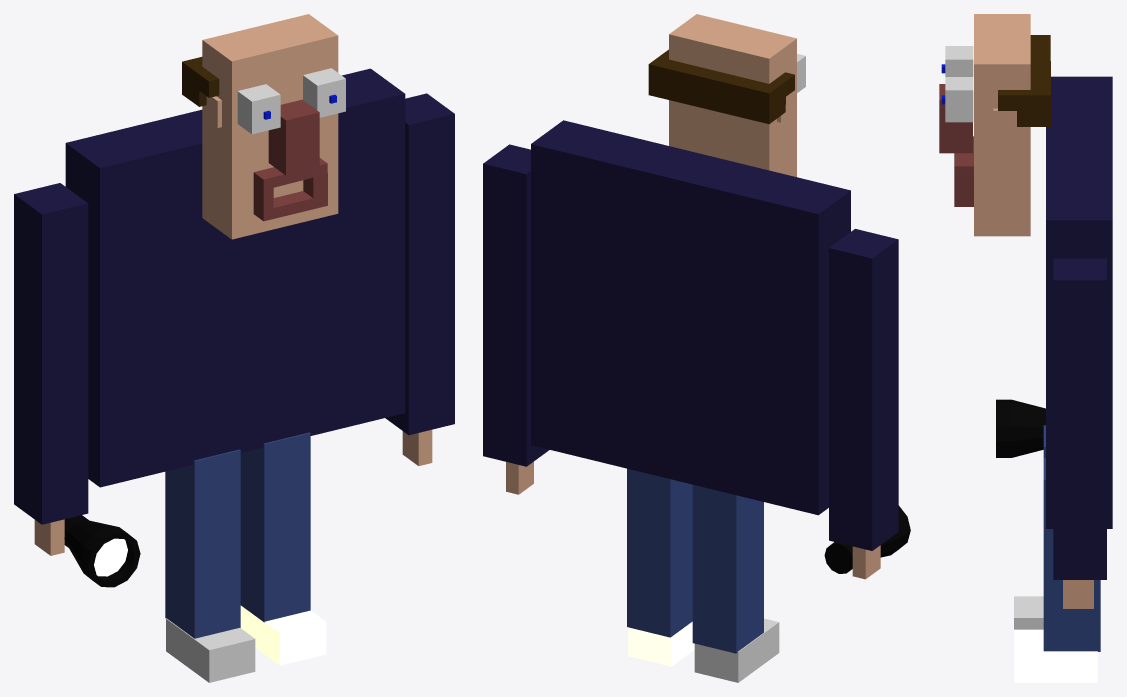
Rendered from Man.glb.
3 views of the same model, side by side, from view 1: azimuth 30°, elevation 25°; view 2: azimuth 150°, elevation 25°; view 3: azimuth 270°, elevation 25° (orthographic). The views are drawn at different scales.
Visible parts, largest first — view 1: Cube, Cube.001, Cube.005, Cube.002, Cube.004, Cube.003, Cylinder, Cube.010, Cube.009, Cube.006, Cube.016, Cube.008 (+4 smaller); view 2: Cube, Cube.001, Cube.002, Cube.005, Cube.004, Cube.003, Cube.013, Cube.010, Cube.009, Cylinder, Cube.012, Cube.011; view 3: Cube.002, Cube, Cube.005, Cube.003, Cube.009, Cube.013, Cylinder, Cube.007, Cube.006, Cube.016, Cube.010, Cube.008 (+2 smaller).
Part boxes in pixels (x1,y1,x2,y2): Cube: (65, 68, 405, 487); Cube.001: (14, 183, 88, 524); Cube.005: (202, 14, 338, 239); Cube.002: (385, 93, 454, 435); Cube.004: (165, 449, 240, 638); Cube.003: (240, 432, 310, 622); Cylinder: (64, 515, 140, 587); Cube.010: (166, 618, 255, 682); Cube.009: (240, 605, 326, 665); Cube.006: (268, 99, 319, 175); Cube.016: (253, 158, 327, 221); Cube.008: (237, 84, 280, 134); Cube: (531, 120, 850, 515); Cube.001: (829, 229, 898, 550); Cube.002: (483, 144, 549, 466); Cube.005: (669, 14, 796, 176); Cube.004: (692, 485, 763, 653); Cube.003: (627, 468, 692, 637); Cube.013: (648, 49, 794, 124); Cube.010: (694, 618, 779, 682); Cube.009: (628, 621, 694, 666); Cylinder: (824, 505, 910, 573); Cube.012: (852, 545, 880, 579); Cube.011: (506, 461, 533, 494); Cube.002: (1053, 258, 1106, 579); Cube: (1046, 76, 1112, 528); Cube.005: (974, 14, 1030, 236); Cube.003: (1043, 458, 1100, 651); Cube.009: (1014, 629, 1097, 682); Cube.013: (998, 35, 1050, 126); Cylinder: (996, 399, 1045, 457); Cube.007: (945, 77, 973, 122); Cube.006: (939, 84, 972, 153); Cube.016: (954, 136, 973, 206); Cube.010: (1014, 596, 1043, 629); Cube.008: (945, 46, 973, 76).
Bounding box in the file's own units: 3.51 × 5.17 × 1.32.
